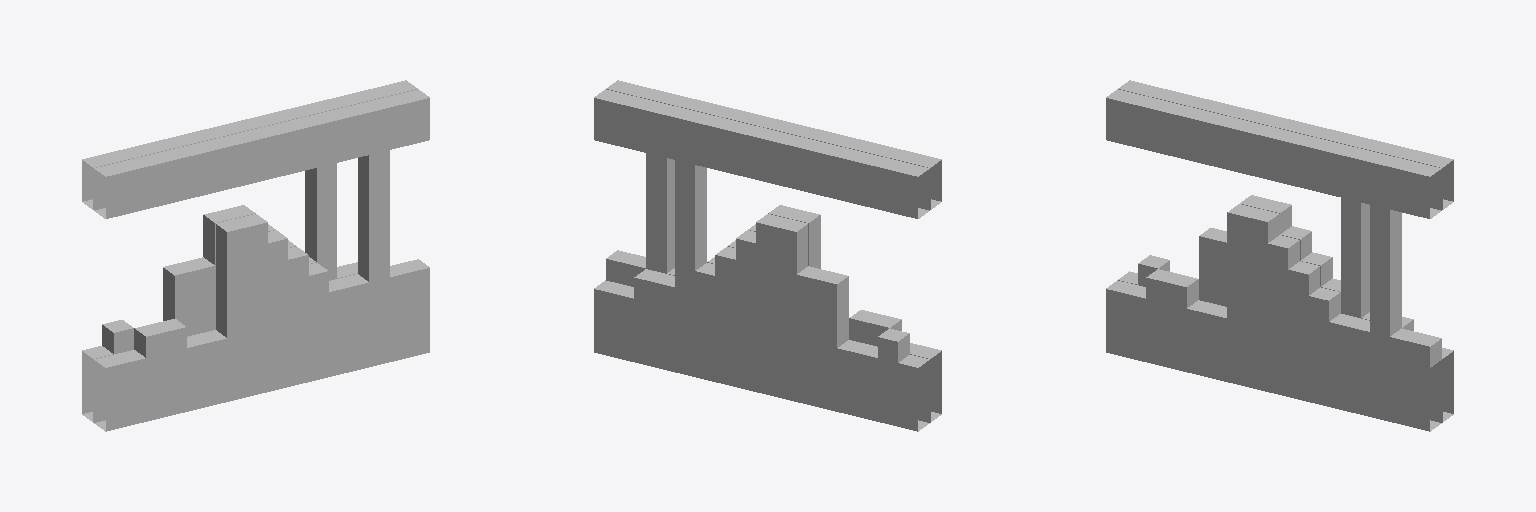
The model's file is Casey3NoMat.obj.
The picture shows the model from 3 angles: view 1: azimuth 30°, elevation 25°; view 2: azimuth 150°, elevation 25°; view 3: azimuth 330°, elevation 25°; orthographic projection.
Visible parts, largest first — view 1: Plane, Plane.001_Plane.002; view 2: Plane.001_Plane.002, Plane; view 3: Plane, Plane.001_Plane.002.
Part boxes in pixels (x1,y1,x2,y2): Plane: (94,89,429,431); Plane.001_Plane.002: (82,80,417,422); Plane.001_Plane.002: (594,89,929,431); Plane: (606,80,941,422); Plane: (1106,89,1441,431); Plane.001_Plane.002: (1118,80,1453,422).
Bounding box in the file's own units: 16 × 12 × 2.04.